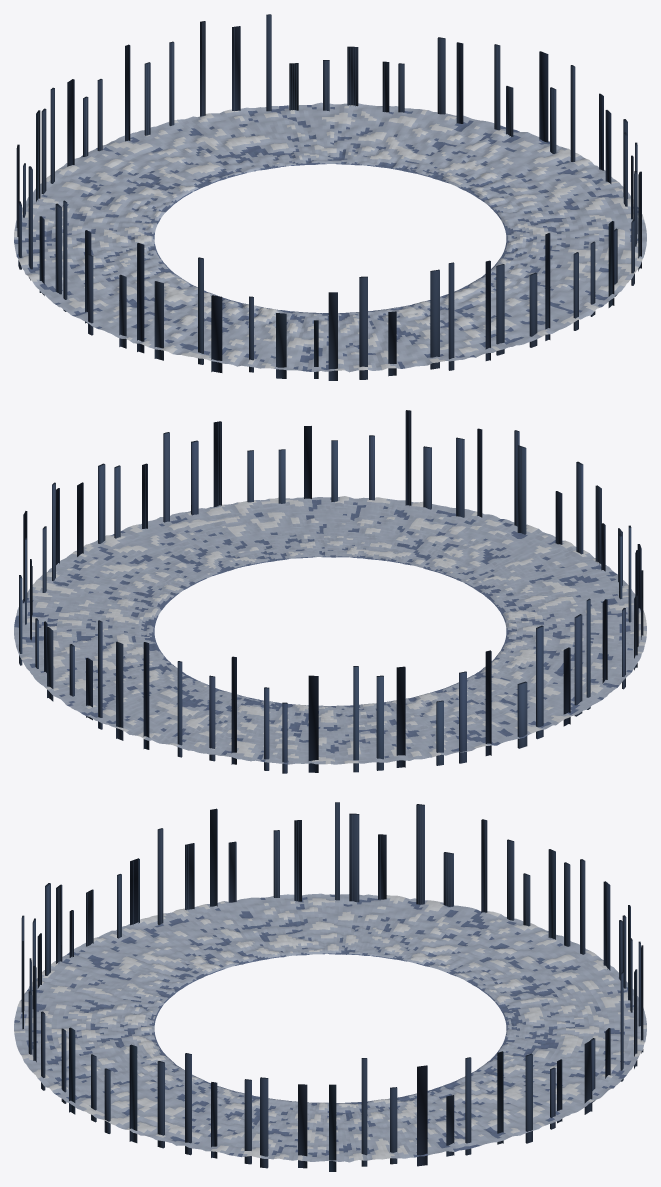
The model's file is shaddai_edge_cloudsea_v01.glb.
3 views of the same model, one above another, from view 1: azimuth 30°, elevation 25°; view 2: azimuth 150°, elevation 25°; view 3: azimuth 270°, elevation 25° (orthographic).
Parts seen in each view (by area): view 1: shaddai_edge_cloudsea; view 2: shaddai_edge_cloudsea; view 3: shaddai_edge_cloudsea.
Part boxes in pixels (bbox=[...]): shaddai_edge_cloudsea: bbox=[14, 14, 646, 380]; shaddai_edge_cloudsea: bbox=[14, 410, 646, 773]; shaddai_edge_cloudsea: bbox=[14, 802, 646, 1171].
Size of the model in its own units: 17200 by 3315 by 17200.
